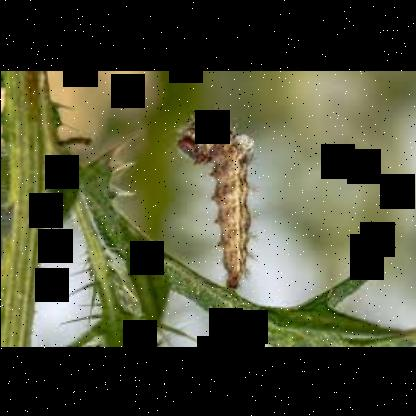oruga: (172, 110, 256, 292)
